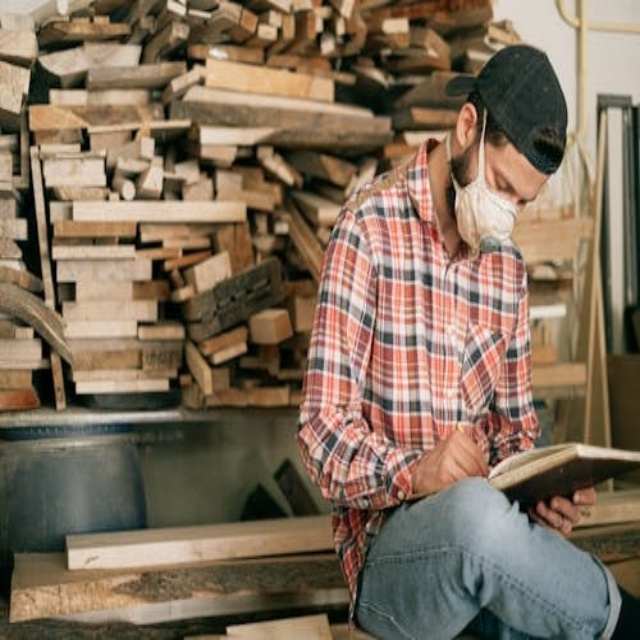Mascara: (450, 111, 523, 256)
Sin_gafas: (489, 156, 544, 219)
Sin_guantes: (413, 423, 490, 500), (529, 486, 596, 534)
